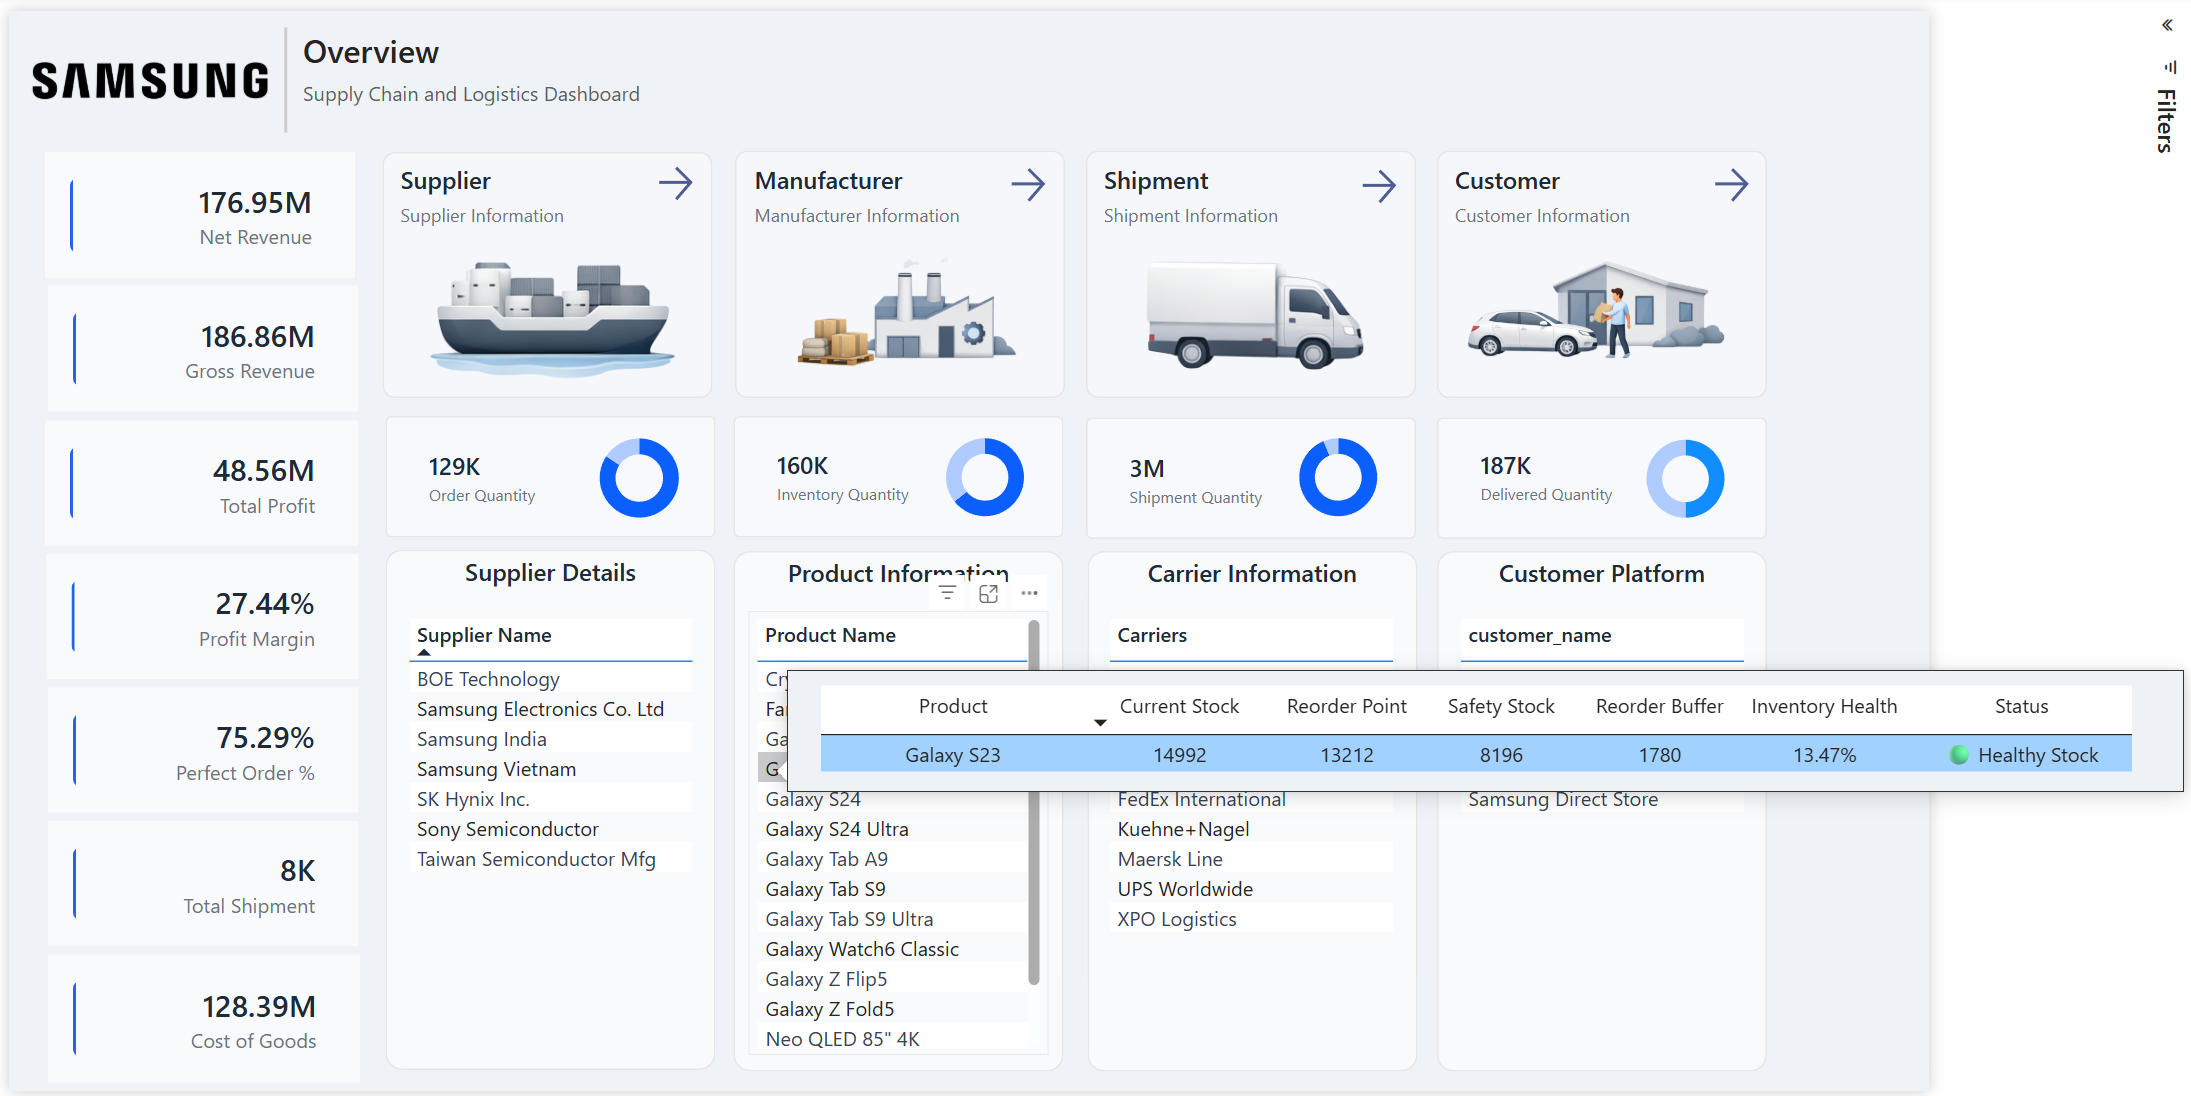

The dashboard page shown, as its layout file describes it:
{"tool":"powerbi","page":{"name":"Overview","canvas":[1280,720],"ordinal":1},"visuals":[{"type":"textbox","title":"Overview","box":[191.2,11.1,280,82.2],"z":0},{"type":"shape","box":[177.9,11.2,13.5,70],"z":1000},{"type":"image","box":[3.3,23.3,174.8,45.2],"z":2000},{"type":"shape","box":[249,94,220,164],"z":3000},{"type":"shape","box":[483.7,92.9,220,165],"z":4000},{"type":"shape","box":[718,92.7,220,165],"z":5000},{"type":"shape","box":[952.3,93,220,165],"z":6000},{"type":"image","box":[261,144,195,105],"z":7000},{"type":"image","box":[496,144,195,105],"z":8000},{"type":"image","box":[731,144,195,105],"z":9000},{"type":"image","box":[965,144,195,105],"z":10000},{"type":"textbox","title":"Supplier","box":[256,101,136,45],"z":11000},{"type":"actionButton","box":[428,99,33,32],"z":12000},{"type":"textbox","title":"Manufacturer","box":[492,101,159,45],"z":13000},{"type":"actionButton","box":[663,100,33,32],"z":14000},{"type":"textbox","title":"Shipment","box":[725,101,159,45],"z":15000},{"type":"actionButton","box":[897,101,33,32],"z":16000},{"type":"textbox","title":"Customer","box":[959,101,159,45],"z":17000},{"type":"actionButton","box":[1132,100,33,32],"z":18000},{"type":"cardVisual","fields":{"Data":["Measure.Total_Revenue"]},"box":[24,94,207,84],"z":19000},{"type":"cardVisual","fields":{"Data":["Measure.Total_Profit"]},"box":[23.9,272.6,208.8,83.8],"z":20000},{"type":"cardVisual","fields":{"Data":["Measure.Profit_Margin_%"]},"box":[25.5,361.6,207.5,83],"z":21000},{"type":"cardVisual","fields":{"Data":["Measure.Perfect_order_%"]},"box":[25.5,450.7,207.5,83.8],"z":22000},{"type":"cardVisual","fields":{"Data":["Measure.Total_Shipment"]},"box":[25.9,539.7,207.5,83.8],"z":23000},{"type":"cardVisual","fields":{"Data":["Measure.Gross_Revenue"]},"box":[25.9,183.3,206.7,84],"z":24000},{"type":"cardVisual","fields":{"Data":["Measure.Cost_of_Goods"]},"box":[26.3,628.8,207.5,85],"z":25000},{"type":"shape","box":[251.1,270,220,81.1],"z":26000},{"type":"shape","box":[483.3,270,220,81.1],"z":27000},{"type":"shape","box":[717.8,271.1,220,81.1],"z":28000},{"type":"shape","box":[952.2,271.1,220,81.1],"z":29000},{"type":"cardVisual","fields":{"Data":["Measure.Total_Order_Quantity"]},"box":[251.1,271.1,151.1,78.9],"z":30000},{"type":"cardVisual","fields":{"Data":["Measure.Total_Inventory"]},"box":[483.3,270,180,80],"z":31000},{"type":"cardVisual","fields":{"Data":["Measure.Total_Shipment_Quantity"]},"box":[717.8,272.2,180,80],"z":32000},{"type":"cardVisual","fields":{"Data":["Measure.Total Delivered Quantity"]},"box":[952.2,270,180,80],"z":33000},{"type":"shape","title":"Supplier De","box":[251.1,358.9,220,346.7],"z":34000},{"type":"tableEx","fields":{"Values":["dim_supplier.supplier_name"]},"box":[261.1,400,200,295.6],"z":35000},{"type":"shape","title":"Supplier De","box":[483.3,360,220,346.7],"z":36000},{"type":"tableEx","fields":{"Values":["dim_product.product_name"]},"box":[493.3,400,200,295.6],"z":37000},{"type":"shape","title":"Supplier De","box":[718.9,360,220,346.7],"z":38000},{"type":"tableEx","fields":{"Values":["fact_shipment.carrier"]},"box":[727.8,400,200,295.6],"z":39000},{"type":"shape","title":"Supplier De","box":[952.2,360,220,346.7],"z":40000},{"type":"tableEx","fields":{"Values":["dim_customer.customer_name"]},"box":[962.2,400,200,295.6],"z":41000},{"type":"donutChart","fields":{"Y":["Measure.Total_Order_Quantity","Measure.Defective_Orders"]},"box":[373.2,273.2,94.5,75.5],"z":42000},{"type":"donutChart","fields":{"Y":["Measure.Inventory_Value","Measure.Total_Safety_Stock"]},"box":[603.6,272.7,94.5,75.5],"z":43000},{"type":"donutChart","fields":{"Y":["Measure.Total_Shipment_Quantity","Measure.Total Delivered Quantity"]},"box":[839,273,94.9,74.9],"z":44000},{"type":"donutChart","fields":{"Y":["Measure.Total_Delay","Measure.Total Delivered Quantity"]},"box":[1070,274.4,95.6,74.4],"z":45000}]}

Visuals, with their boxes on the page's 1280x720 design canvas (x1, y1, x2, y2). These are canvas units, not pixel positions in the 2191x1096 screenshot, which may show the page scaled, cropped or inside an application window:
"Overview" textbox: {"left": 191, "top": 11, "right": 471, "bottom": 93}
shape: {"left": 178, "top": 11, "right": 191, "bottom": 81}
image: {"left": 3, "top": 23, "right": 178, "bottom": 68}
shape: {"left": 249, "top": 94, "right": 469, "bottom": 258}
shape: {"left": 484, "top": 93, "right": 704, "bottom": 258}
shape: {"left": 718, "top": 93, "right": 938, "bottom": 258}
shape: {"left": 952, "top": 93, "right": 1172, "bottom": 258}
image: {"left": 261, "top": 144, "right": 456, "bottom": 249}
image: {"left": 496, "top": 144, "right": 691, "bottom": 249}
image: {"left": 731, "top": 144, "right": 926, "bottom": 249}
image: {"left": 965, "top": 144, "right": 1160, "bottom": 249}
"Supplier" textbox: {"left": 256, "top": 101, "right": 392, "bottom": 146}
actionButton: {"left": 428, "top": 99, "right": 461, "bottom": 131}
"Manufacturer" textbox: {"left": 492, "top": 101, "right": 651, "bottom": 146}
actionButton: {"left": 663, "top": 100, "right": 696, "bottom": 132}
"Shipment" textbox: {"left": 725, "top": 101, "right": 884, "bottom": 146}
actionButton: {"left": 897, "top": 101, "right": 930, "bottom": 133}
"Customer" textbox: {"left": 959, "top": 101, "right": 1118, "bottom": 146}
actionButton: {"left": 1132, "top": 100, "right": 1165, "bottom": 132}
cardVisual - Measure.Total_Revenue: {"left": 24, "top": 94, "right": 231, "bottom": 178}
cardVisual - Measure.Total_Profit: {"left": 24, "top": 273, "right": 233, "bottom": 356}
cardVisual - Measure.Profit_Margin_%: {"left": 26, "top": 362, "right": 233, "bottom": 445}
cardVisual - Measure.Perfect_order_%: {"left": 26, "top": 451, "right": 233, "bottom": 534}
cardVisual - Measure.Total_Shipment: {"left": 26, "top": 540, "right": 233, "bottom": 624}
cardVisual - Measure.Gross_Revenue: {"left": 26, "top": 183, "right": 233, "bottom": 267}
cardVisual - Measure.Cost_of_Goods: {"left": 26, "top": 629, "right": 234, "bottom": 714}
shape: {"left": 251, "top": 270, "right": 471, "bottom": 351}
shape: {"left": 483, "top": 270, "right": 703, "bottom": 351}
shape: {"left": 718, "top": 271, "right": 938, "bottom": 352}
shape: {"left": 952, "top": 271, "right": 1172, "bottom": 352}
cardVisual - Measure.Total_Order_Quantity: {"left": 251, "top": 271, "right": 402, "bottom": 350}
cardVisual - Measure.Total_Inventory: {"left": 483, "top": 270, "right": 663, "bottom": 350}
cardVisual - Measure.Total_Shipment_Quantity: {"left": 718, "top": 272, "right": 898, "bottom": 352}
cardVisual - Measure.Total Delivered Quantity: {"left": 952, "top": 270, "right": 1132, "bottom": 350}
"Supplier De" shape: {"left": 251, "top": 359, "right": 471, "bottom": 706}
tableEx - dim_supplier.supplier_name: {"left": 261, "top": 400, "right": 461, "bottom": 696}
"Supplier De" shape: {"left": 483, "top": 360, "right": 703, "bottom": 707}
tableEx - dim_product.product_name: {"left": 493, "top": 400, "right": 693, "bottom": 696}
"Supplier De" shape: {"left": 719, "top": 360, "right": 939, "bottom": 707}
tableEx - fact_shipment.carrier: {"left": 728, "top": 400, "right": 928, "bottom": 696}
"Supplier De" shape: {"left": 952, "top": 360, "right": 1172, "bottom": 707}
tableEx - dim_customer.customer_name: {"left": 962, "top": 400, "right": 1162, "bottom": 696}
donutChart - Measure.Total_Order_Quantity x Measure.Defective_Orders: {"left": 373, "top": 273, "right": 468, "bottom": 349}
donutChart - Measure.Inventory_Value x Measure.Total_Safety_Stock: {"left": 604, "top": 273, "right": 698, "bottom": 348}
donutChart - Measure.Total_Shipment_Quantity x Measure.Total Delivered Quantity: {"left": 839, "top": 273, "right": 934, "bottom": 348}
donutChart - Measure.Total_Delay x Measure.Total Delivered Quantity: {"left": 1070, "top": 274, "right": 1166, "bottom": 349}
